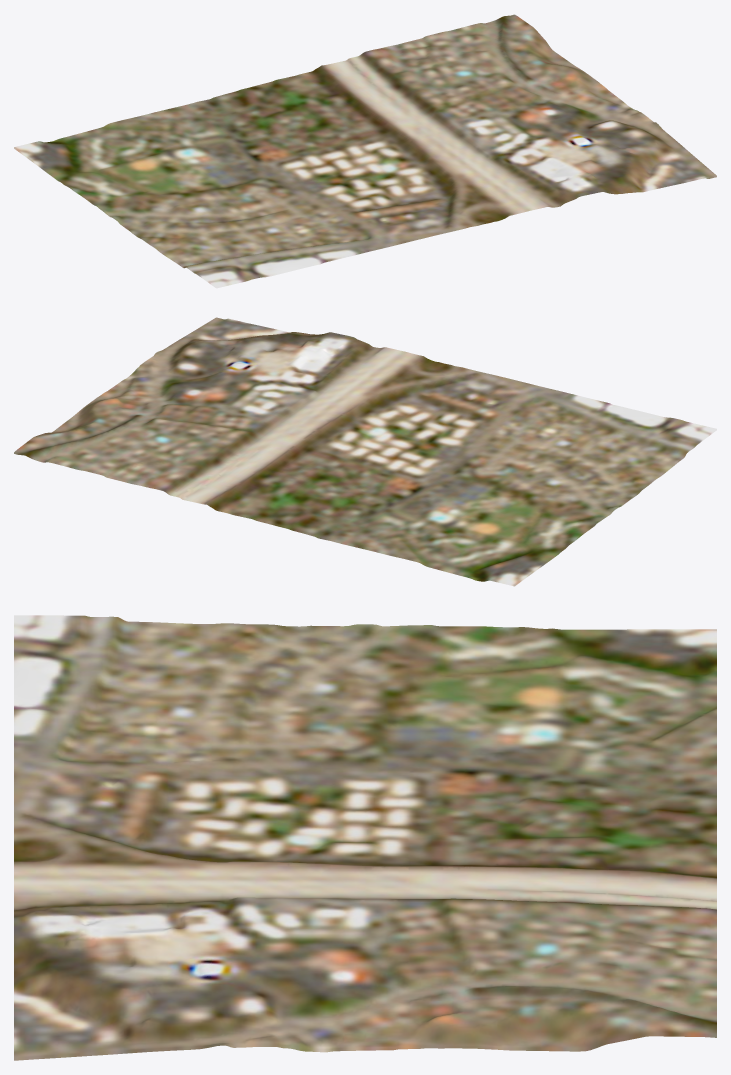
Rendered from terrain_r2_c7.glb.
3 renders of one model, top to bottom at view 1: azimuth 30°, elevation 25°; view 2: azimuth 150°, elevation 25°; view 3: azimuth 270°, elevation 25°, orthographic. The views are drawn at different scales.
Parts seen in each view (by area): view 1: terrain_r2_c7_lod0; view 2: terrain_r2_c7_lod0; view 3: terrain_r2_c7_lod0.
Boxes of the visible parts, x1,y1,x2,y2 form: terrain_r2_c7_lod0: (14,14,716,288); terrain_r2_c7_lod0: (14,317,716,586); terrain_r2_c7_lod0: (14,615,716,1060).
Bounding box in the file's own units: 1125 × 38.04 × 787.
1 material, 1 textured.
